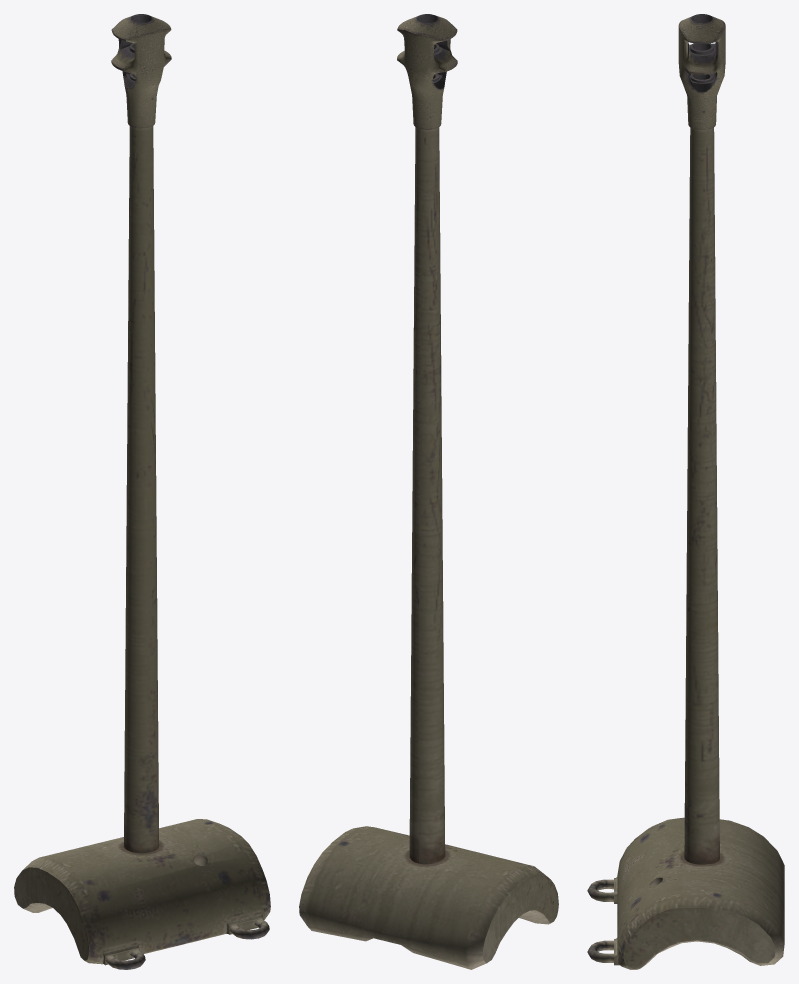
File: Gun_01.glb
The picture shows the model from 3 angles, left to right: view 1: azimuth 30°, elevation 25°; view 2: azimuth 150°, elevation 25°; view 3: azimuth 270°, elevation 25°; orthographic projection.
Visible parts, largest first — view 1: set_0_group_0; view 2: set_0_group_0; view 3: set_0_group_0.
Part boxes in pixels (x1,y1,x2,y2): set_0_group_0: (14,14,270,969); set_0_group_0: (299,14,558,969); set_0_group_0: (587,14,784,969).
Size of the model in its own units: 1.14 by 5.37 by 1.06.
1 material, 1 textured.
